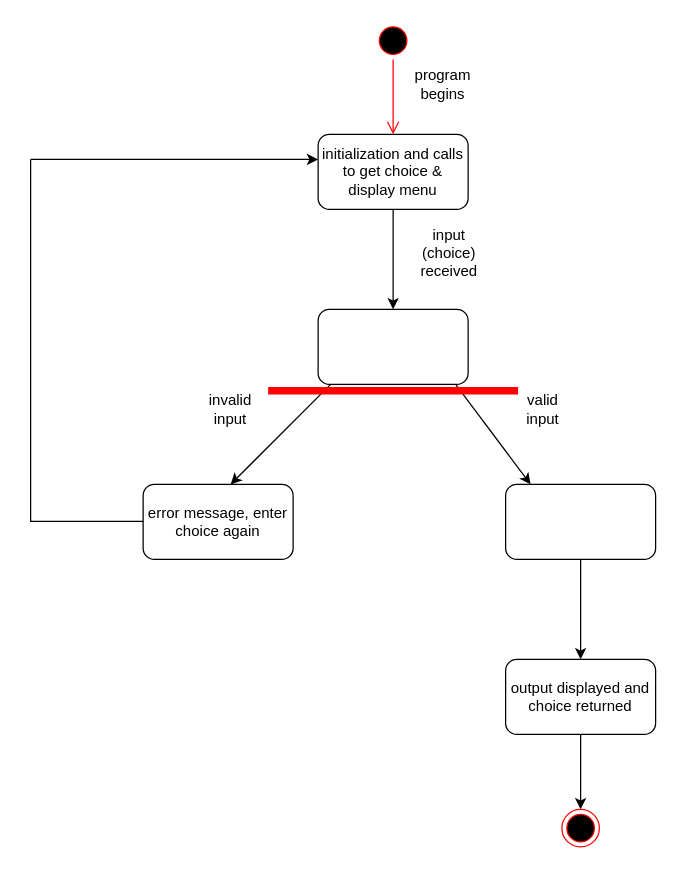
The diagram is 678 pixels wide and 869 high, and some of its shapes have lost their labels. The shapes that lost their labels are listed below. From the top down, each one's centre as x and y in pixels, then its label:
[392,346]: unprocessed input
[580,521]: process choice and run through various conditional cases (1-10)
